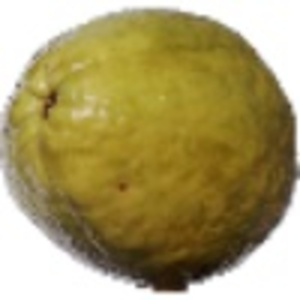goiaba: (3, 3, 293, 288)
